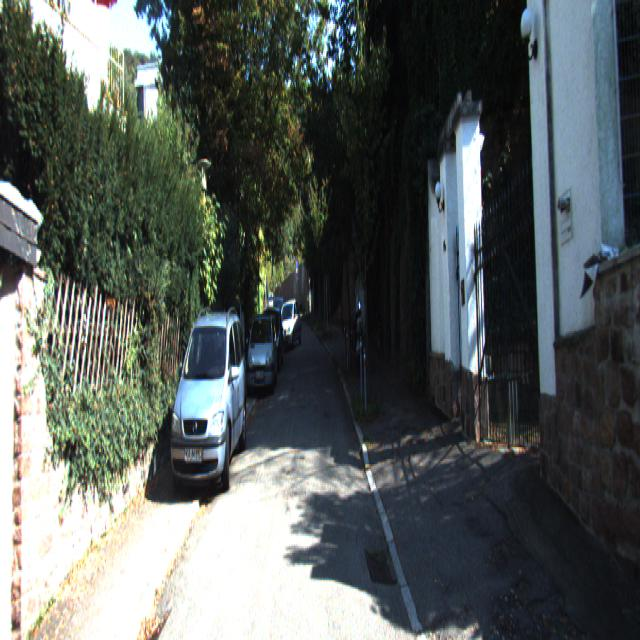Car: (170, 301, 248, 498), (247, 310, 278, 398), (276, 298, 302, 351), (354, 303, 364, 378)
